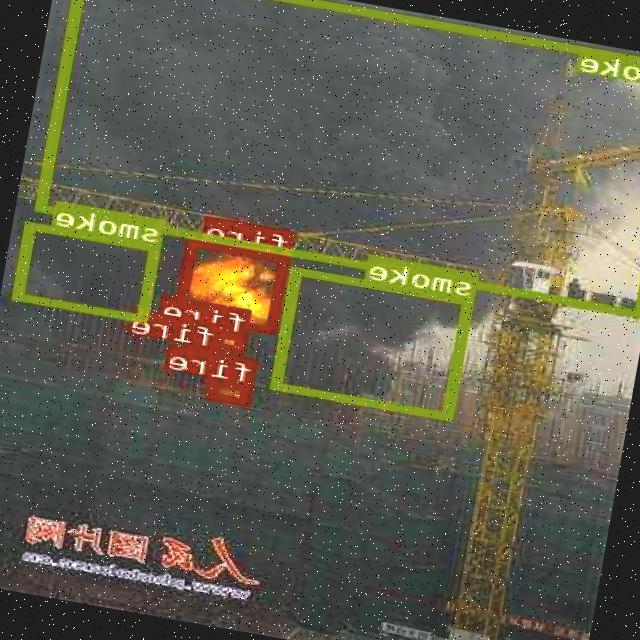fire: (177, 238, 292, 333), (208, 376, 255, 404), (214, 329, 249, 354), (185, 342, 218, 368)
smoke: (39, 0, 640, 316), (273, 266, 475, 419), (15, 220, 164, 322)
